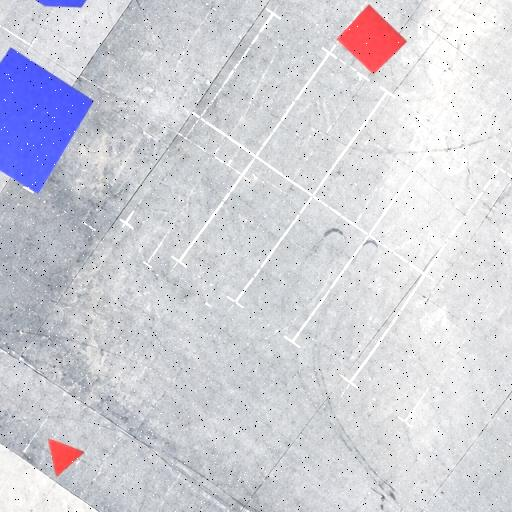BLUE_SQUARE: (0, 47, 94, 194)
RED_SQUARE: (336, 4, 407, 74)
